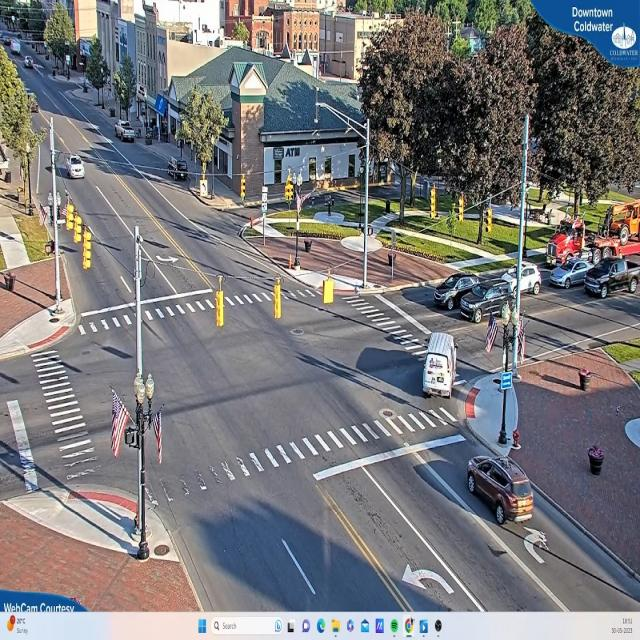car: (468, 456, 537, 526), (422, 327, 464, 408), (585, 255, 640, 298), (462, 280, 514, 321), (433, 275, 486, 308), (551, 257, 594, 291), (501, 264, 542, 298), (118, 122, 137, 144), (66, 156, 84, 179)
